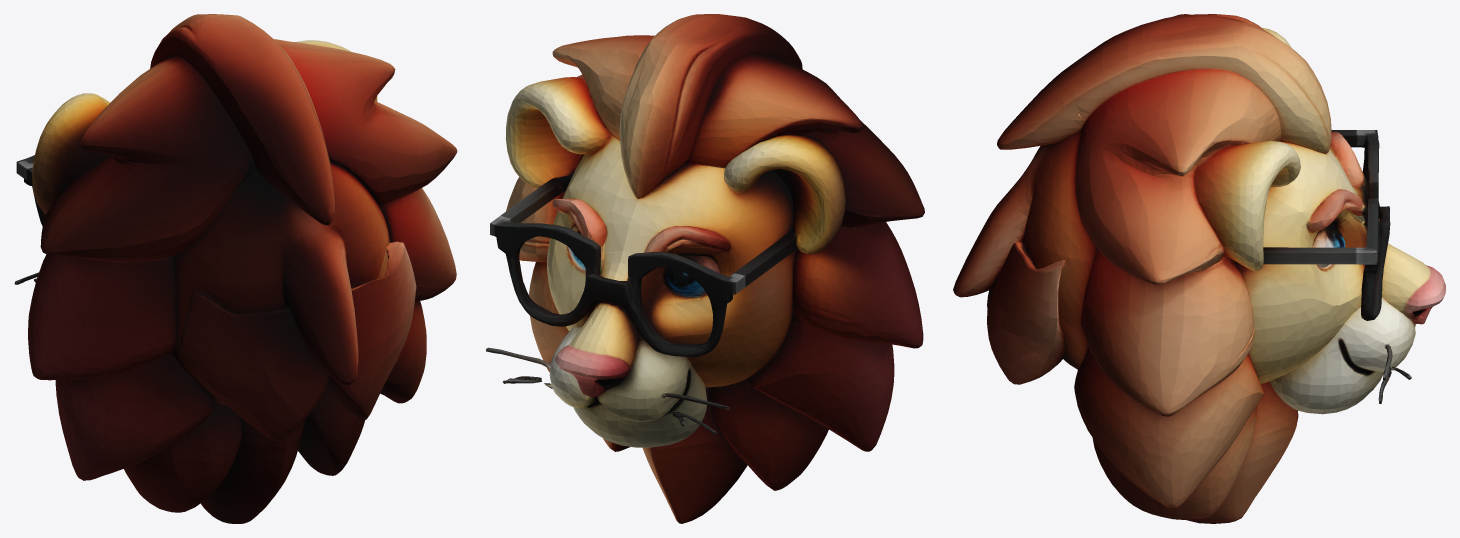
File: lion.glb
3 views of the same model, side by side, from view 1: azimuth 30°, elevation 25°; view 2: azimuth 150°, elevation 25°; view 3: azimuth 270°, elevation 25° (orthographic). The views are drawn at different scales.
Visible parts, largest first — view 1: world; view 2: world; view 3: world.
Boxes of the visible parts, <box> form: world: <box>14,14,457,523</box>; world: <box>486,14,924,523</box>; world: <box>953,14,1445,523</box>.
Bounding box in the file's own units: 0.8955 × 0.9971 × 0.896.
Materials: 1 (1 with a texture image).
